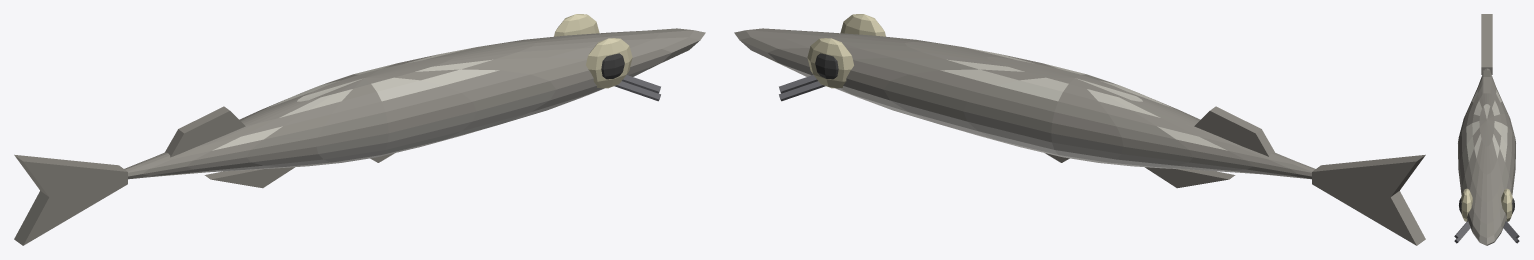
The model's file is LakeSturgeon.glb.
3 views of the same model, side by side, from view 1: azimuth 30°, elevation 25°; view 2: azimuth 150°, elevation 25°; view 3: azimuth 270°, elevation 25° (orthographic). The views are drawn at different scales.
Parts seen in each view (by area): view 1: LakeSturgeon; view 2: LakeSturgeon; view 3: LakeSturgeon.
Boxes of the visible parts, x1,y1,x2,y2 form: LakeSturgeon: (14, 14, 705, 245); LakeSturgeon: (734, 14, 1425, 245); LakeSturgeon: (1454, 14, 1519, 245).
Size of the model in its own units: 14.74 by 1.84 by 1.99.
